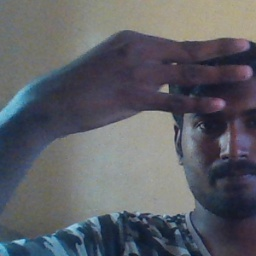K: (58, 28, 254, 119)
